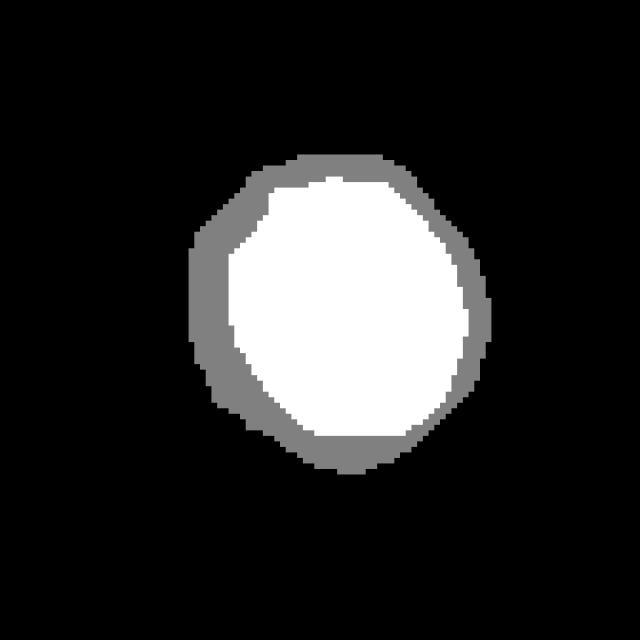WBC: (183, 138, 508, 485)
